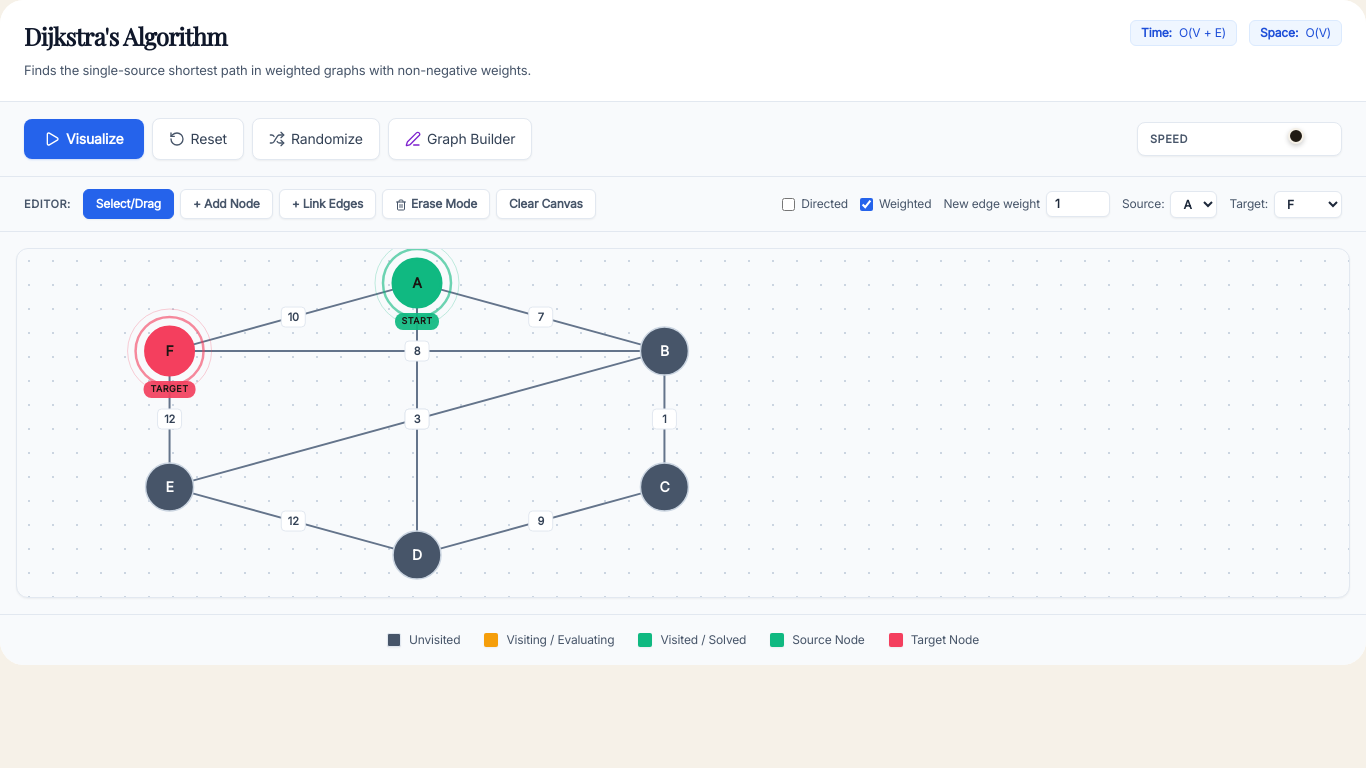
it: GraphVisualizer › resets a compiled trace back to the idle state
What coordinates should you click on to do the following:
click the button "Visualize"
I would click on:
 (84, 139)
Its box is [24, 119, 144, 159].
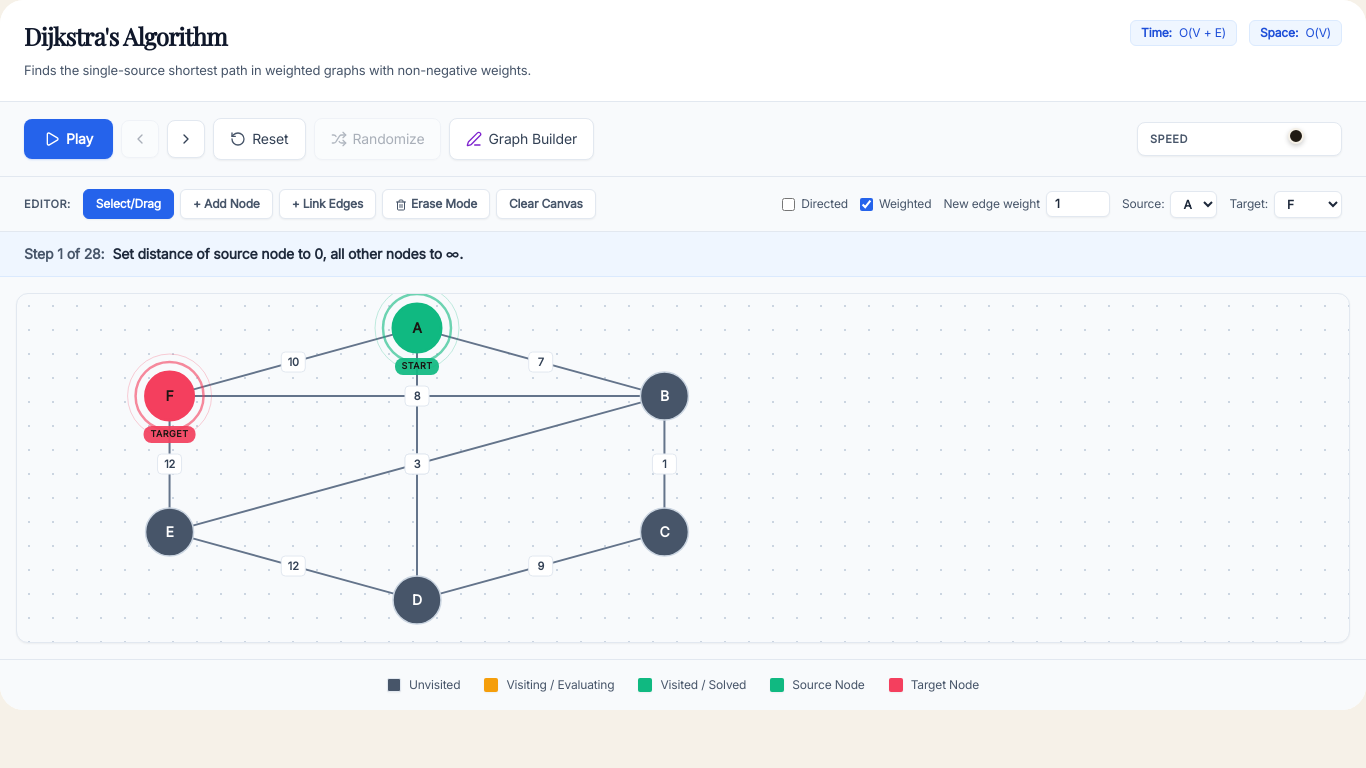
What coordinates should you click on to do the following:
click the button "Reset"
I would click on:
 (259, 139)
Its box is [213, 118, 306, 160].
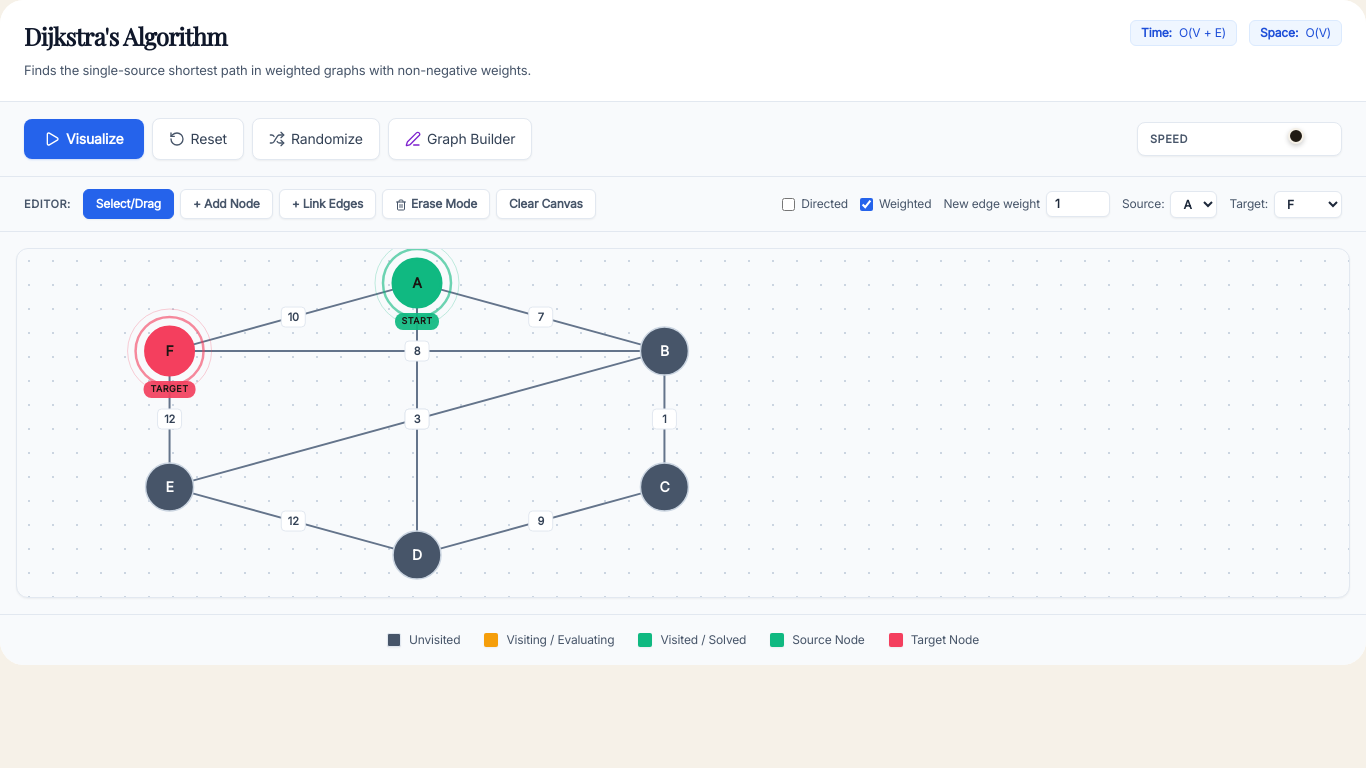
Check: the button "Visualize" is shown, box [24, 119, 144, 159]
Check: the text "Step 1 of" is gone
